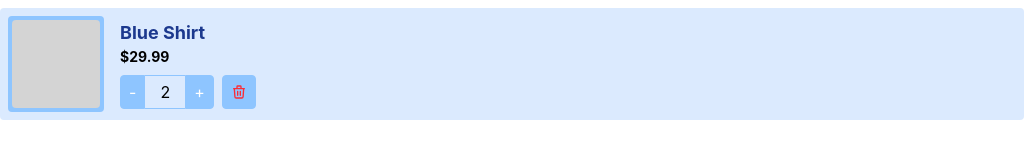
quantity input › clamps the displayed input to 999 when a value over 999 is entered
The width and height of the screenshot is (1024, 160).
Replace the text in the number field labelled "Blue Shirt" with "1000" at (165,92), box [145,75,185,109]
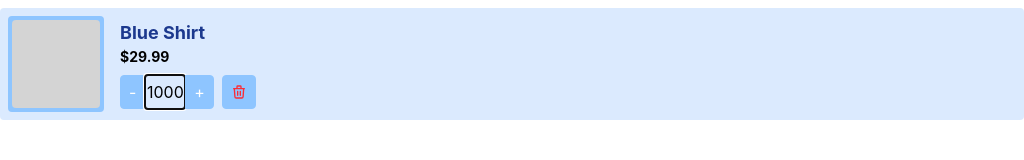
Press Tab
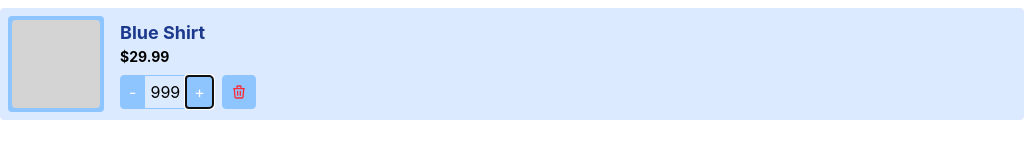
Expected: the number field labelled "Blue Shirt" holds "999", [145,75,185,109]
